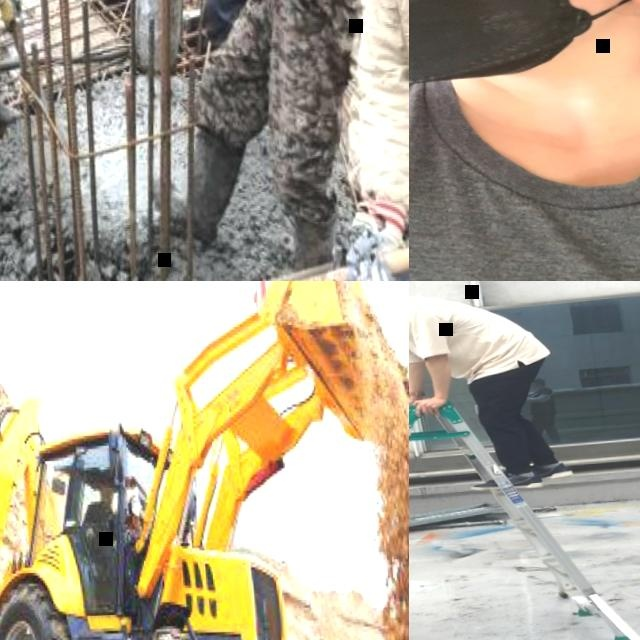Mask: (409, 0, 640, 93)
NO-Hardhat: (97, 482, 114, 493)
NO-Mask: (99, 494, 112, 504)
NO-Safety Vest: (409, 49, 640, 281), (409, 287, 535, 381), (379, 0, 409, 149), (83, 503, 116, 542)
Person: (119, 0, 396, 281), (409, 0, 640, 281), (409, 281, 576, 498), (314, 0, 409, 281), (78, 479, 123, 608)
machinery: (0, 281, 409, 640)
